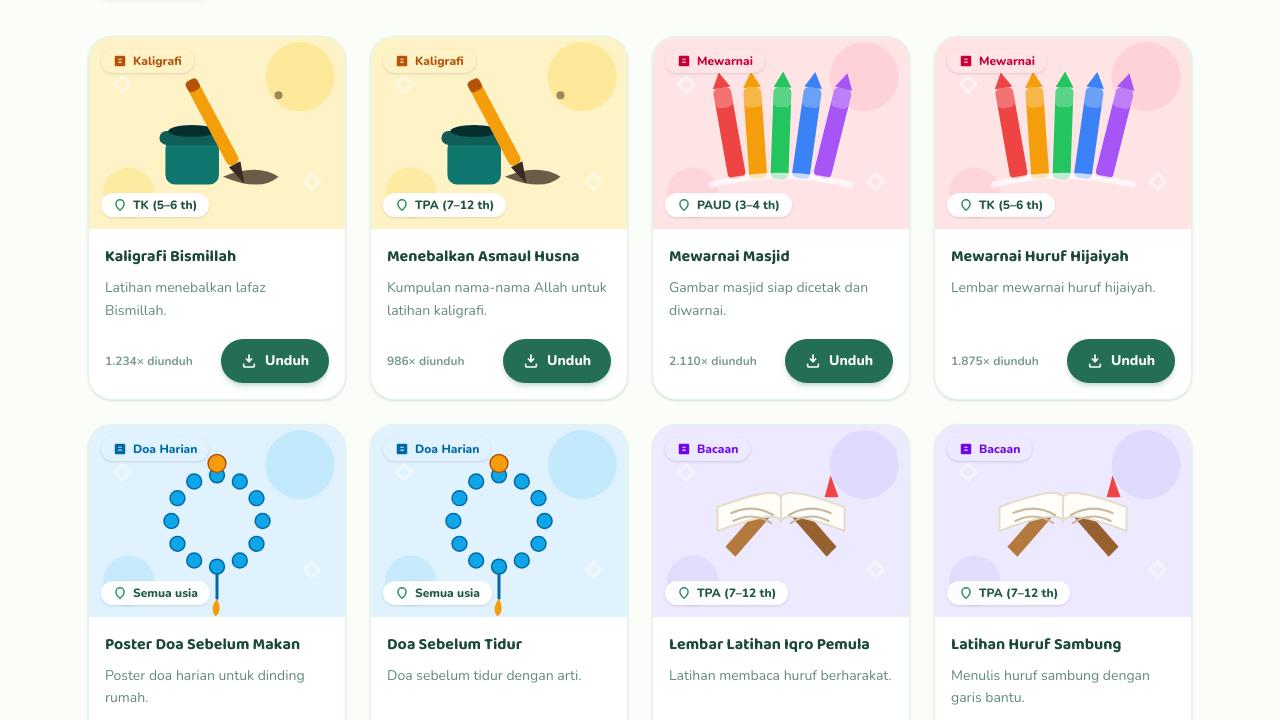
ResourcesDashboard (public resources page) › shows a success toast with a WhatsApp share action after downloading
(page scrolled)
Click the button with aria-label "Unduh PDF Kaligrafi Bismillah" at {"x": 275, "y": 361}, box top-left (221, 339), bottom-right (329, 383)
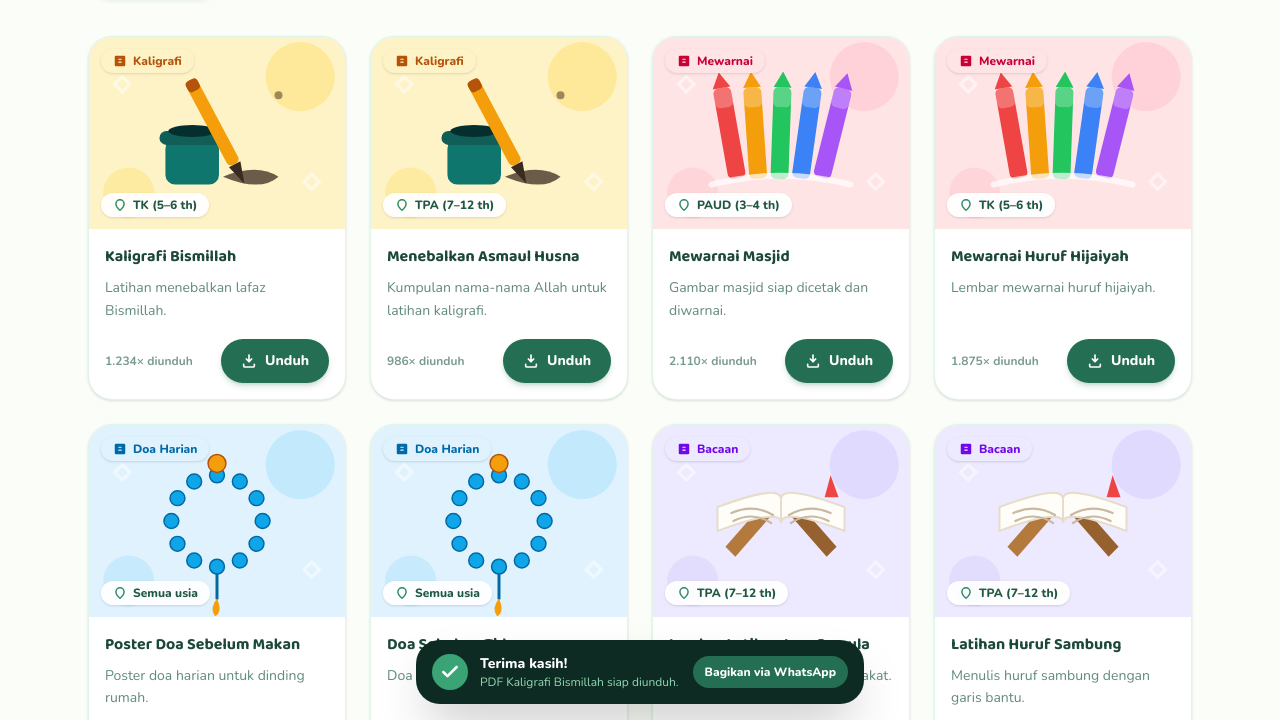
Result: the message shows "Terima kasih!" at top-left (480, 654), bottom-right (567, 673)
Result: the message shows "PDF Kaligrafi Bismillah siap diunduh." at top-left (480, 674), bottom-right (678, 690)
